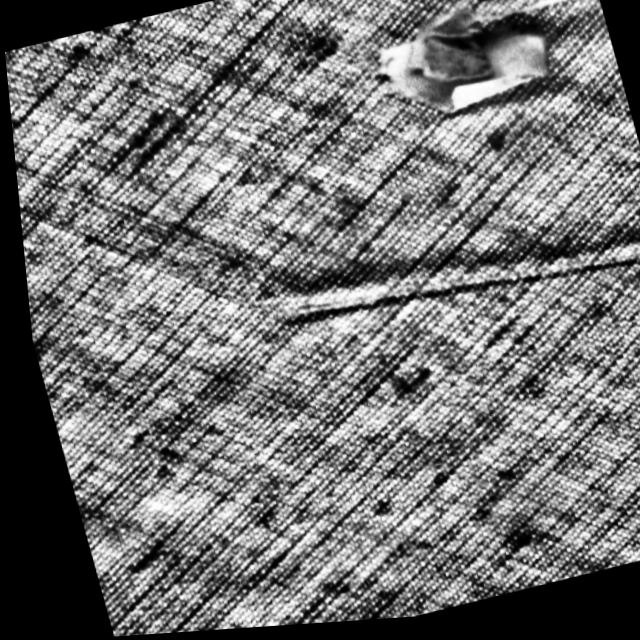Stitch: (256, 167, 640, 402), (361, 0, 599, 146)
